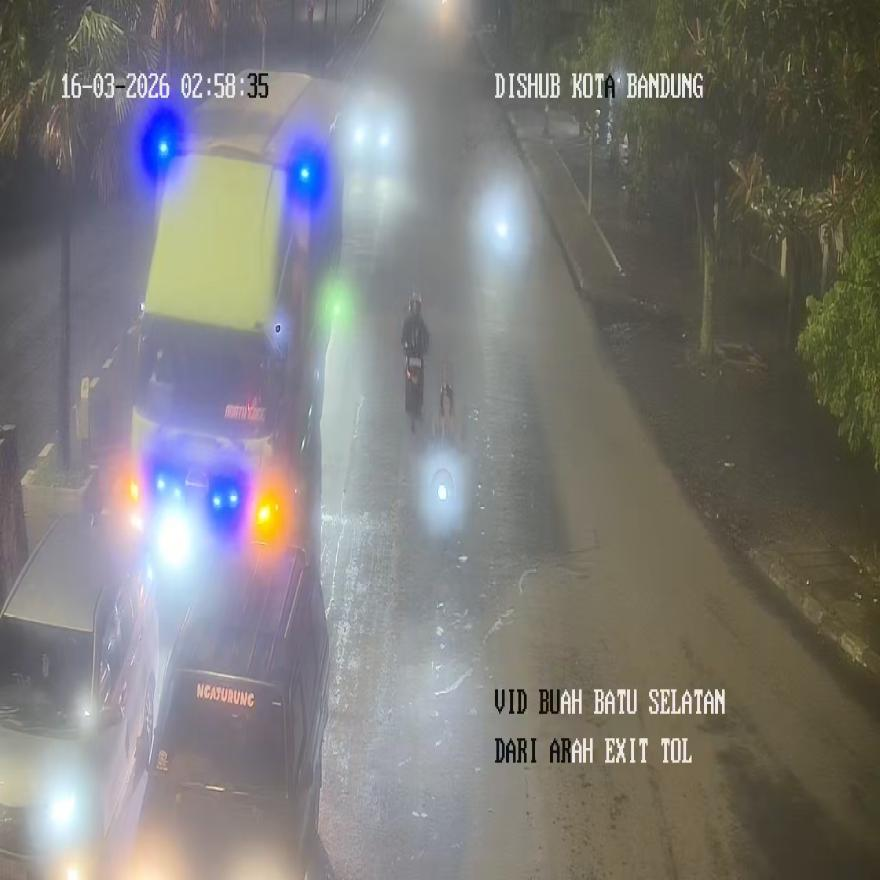Mobil: (126, 540, 330, 878), (0, 511, 158, 876)
Motor: (402, 293, 428, 424)
Truk berat: (127, 73, 346, 574)
